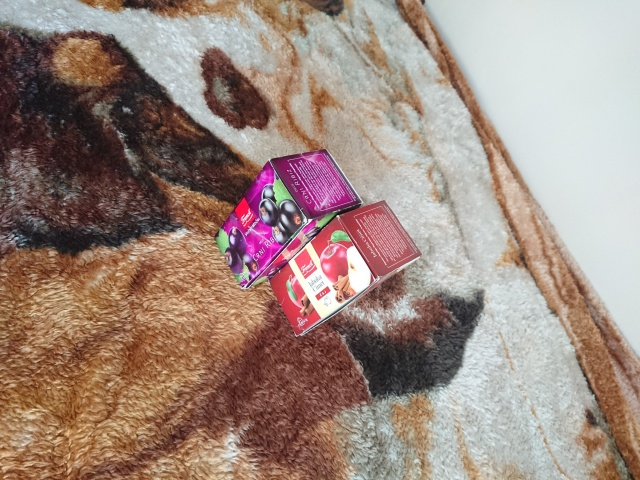Franck Apple Cinnamon Tea 60g: (266, 197, 426, 341)
Franck Black Currant Tea 60g: (211, 146, 366, 293)
